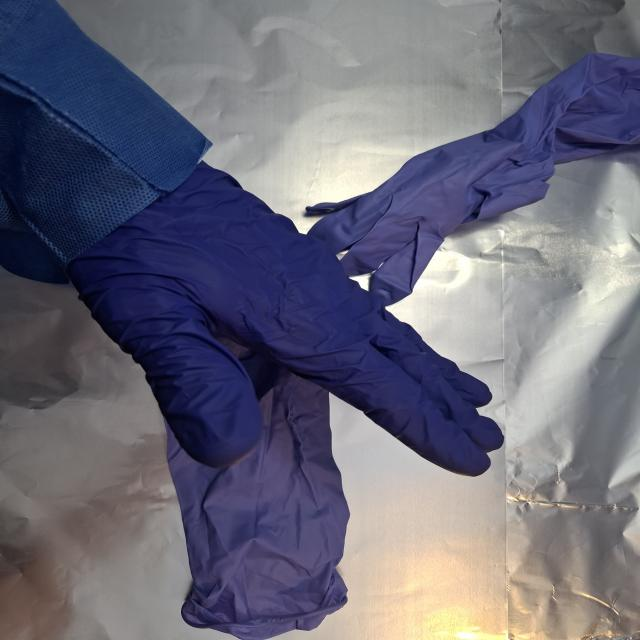glove_on: (64, 160, 507, 480)
